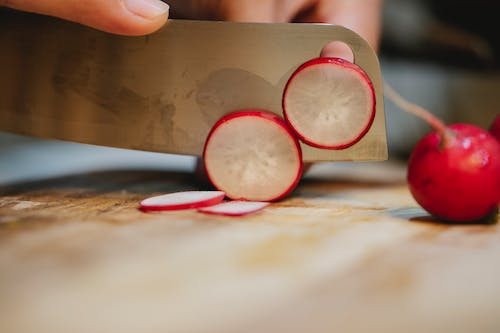knife: (0, 3, 390, 162)
